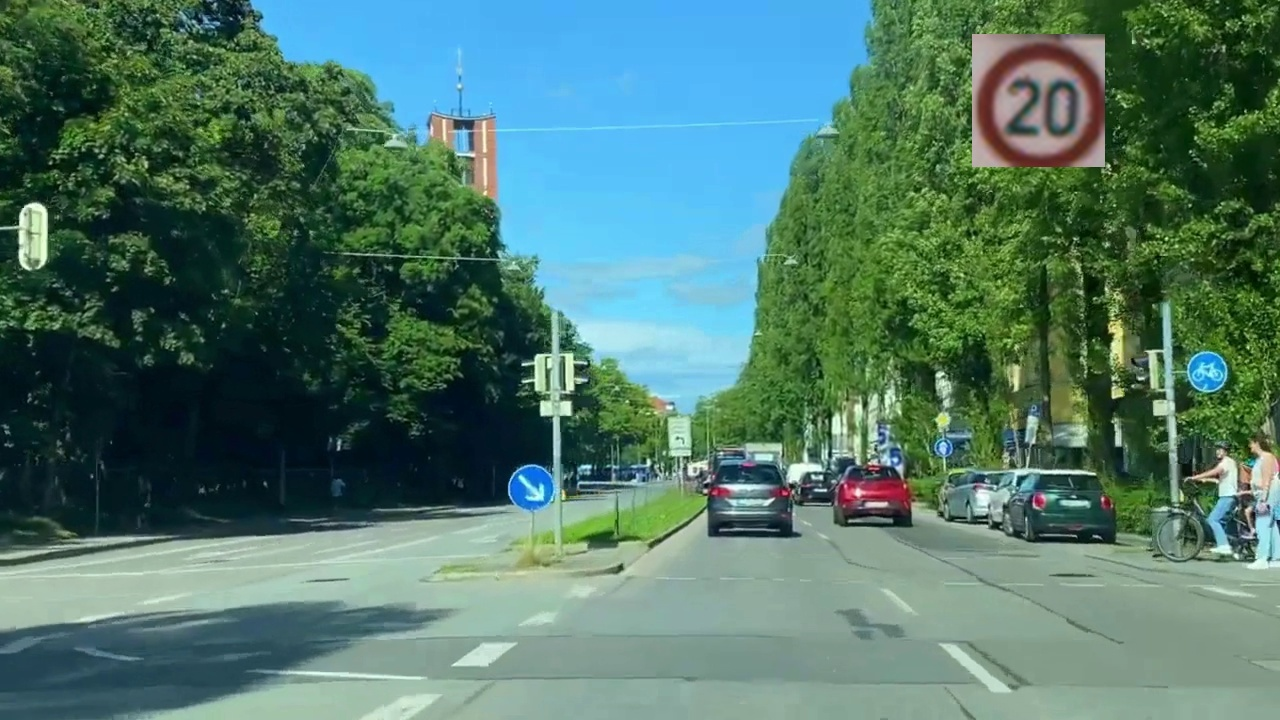Speed 20: (972, 34, 1105, 167)
